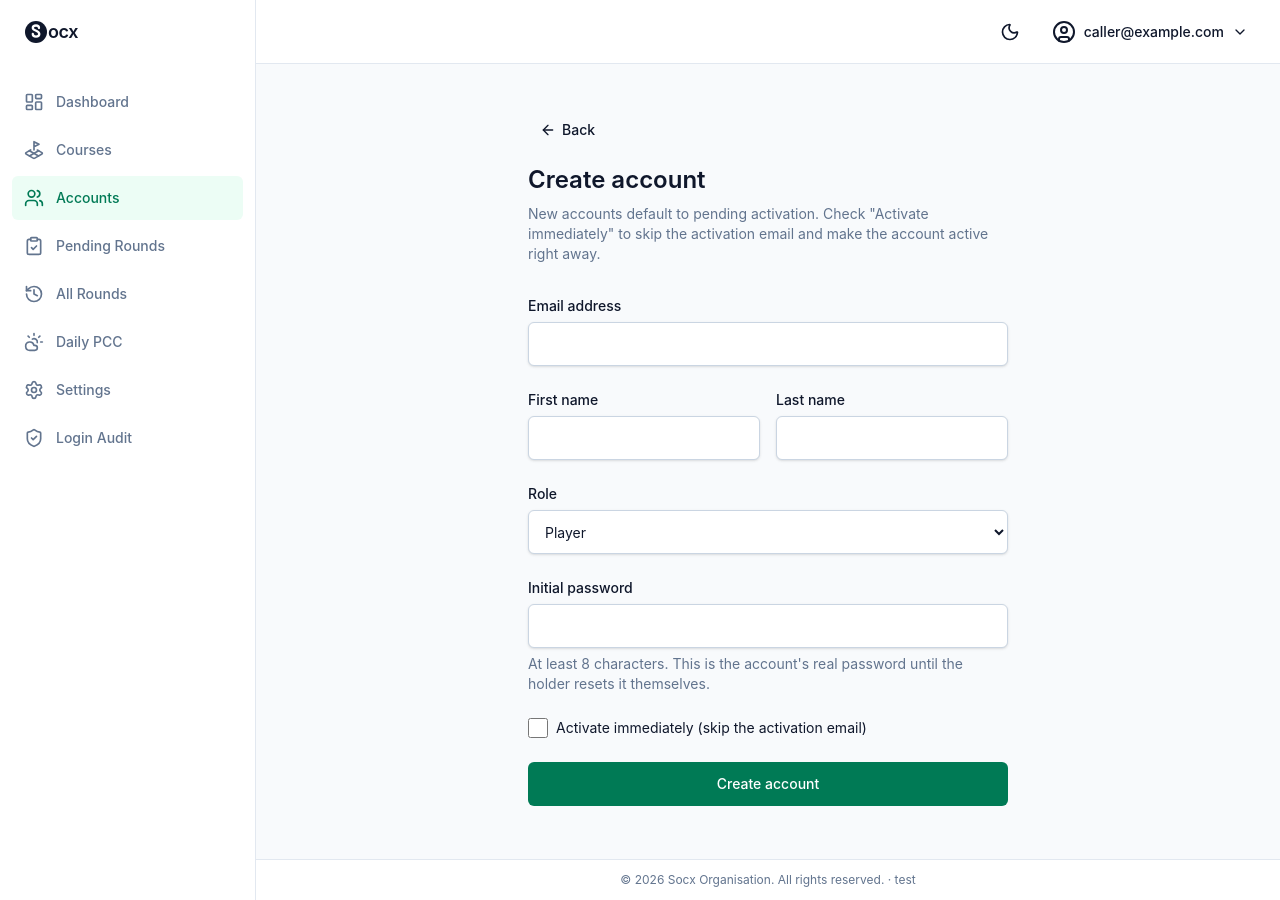
Test: AdminCreateUserPage › lets a super_admin submit an elevated role
Type "new.player@example.com" into the field labelled "Email address" at (768, 344), box [528,322,1008,366]
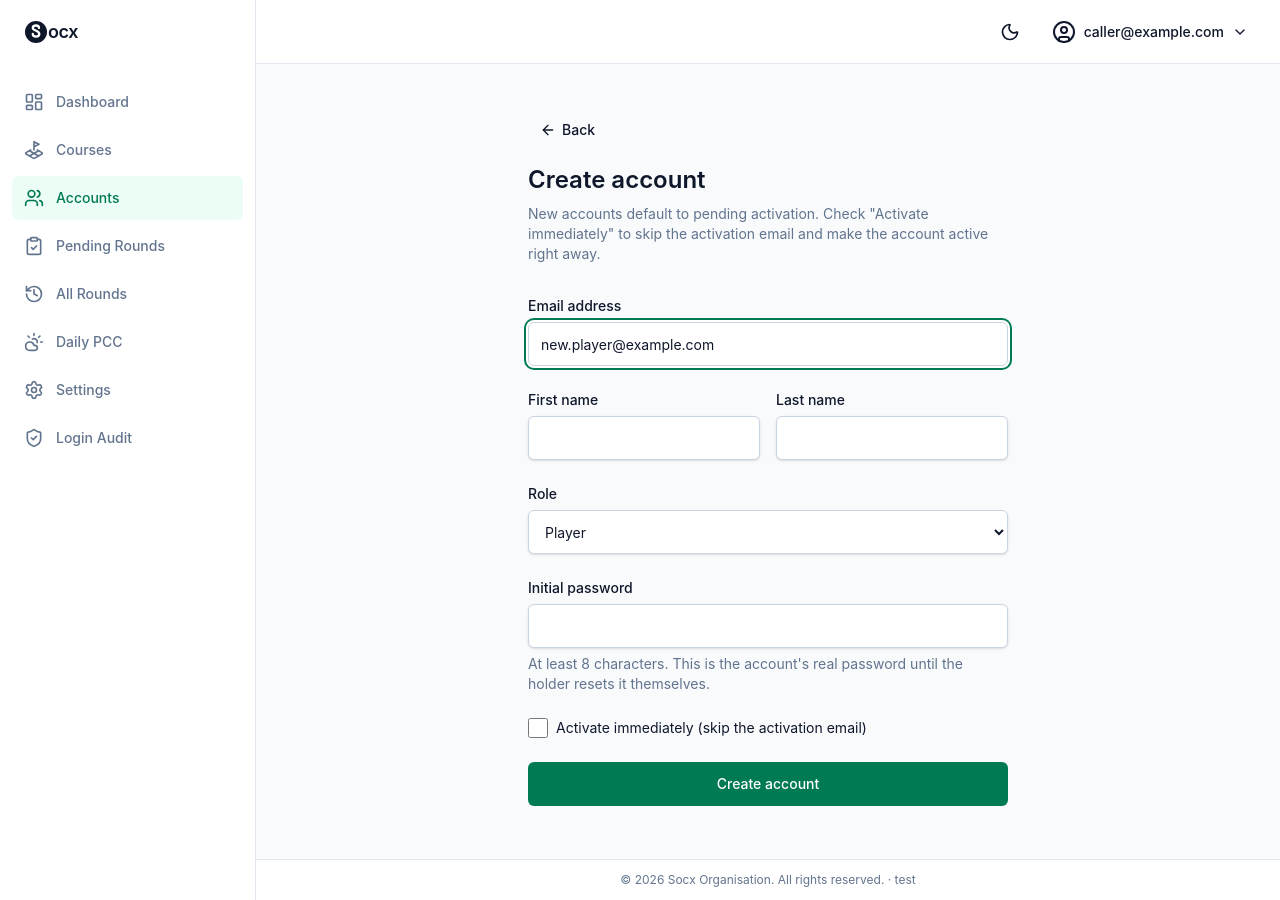
Type "New" into the field labelled "First name" at (644, 438), box [528,416,760,460]
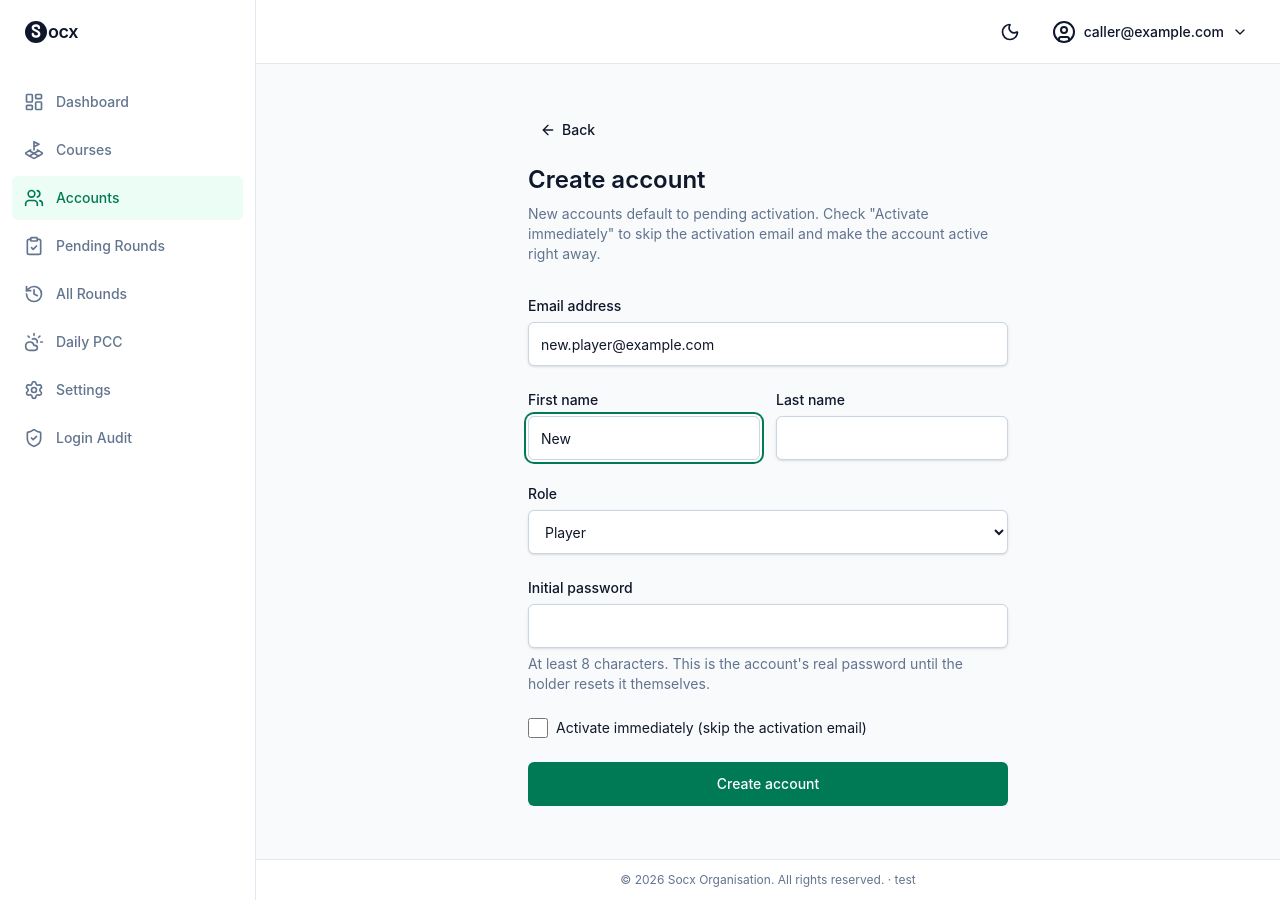
Type "Player" into the field labelled "Last name" at (892, 438), box [776,416,1008,460]
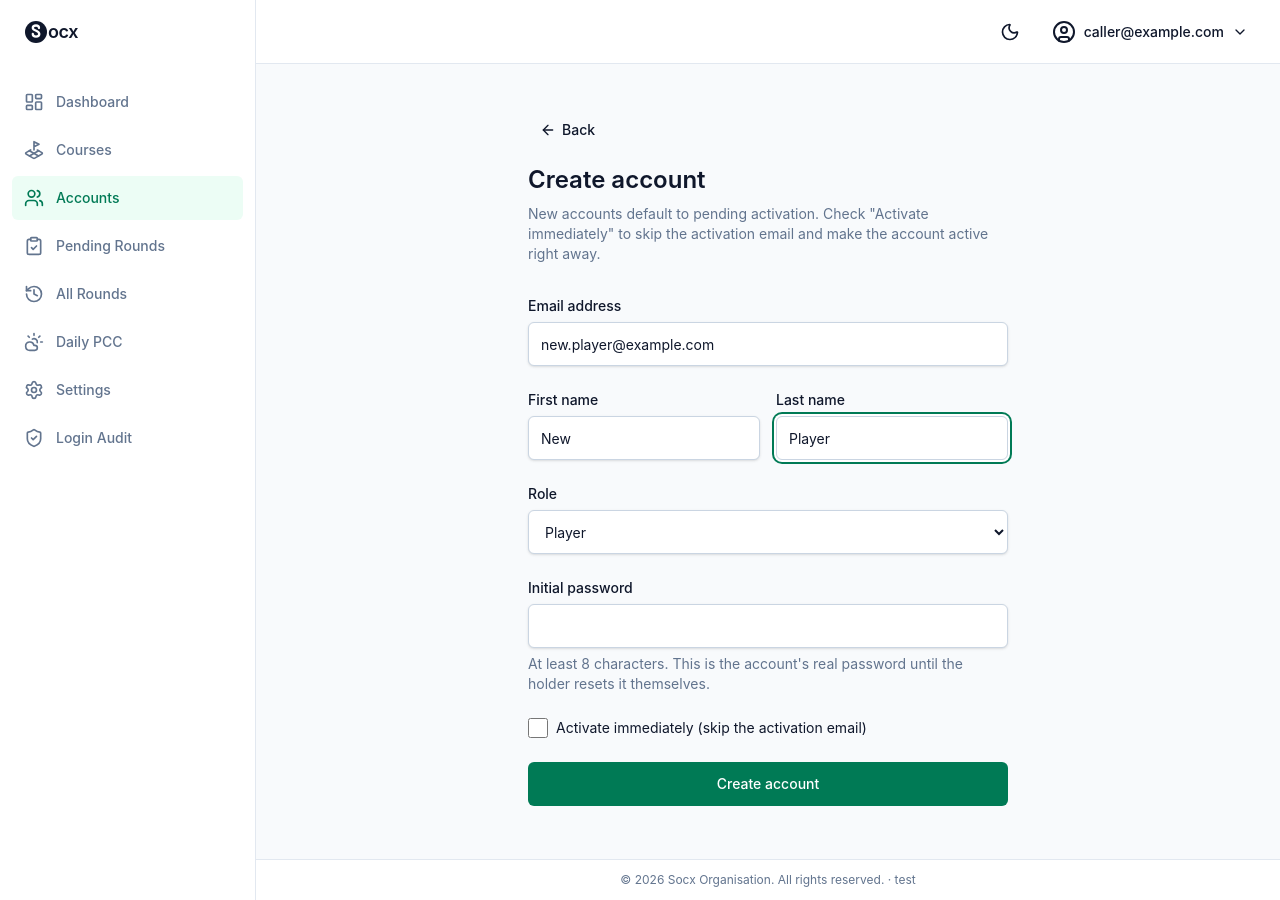
Type "correct-horse-battery-1" into the password field labelled "Initial password" at (768, 626), box [528,604,1008,648]
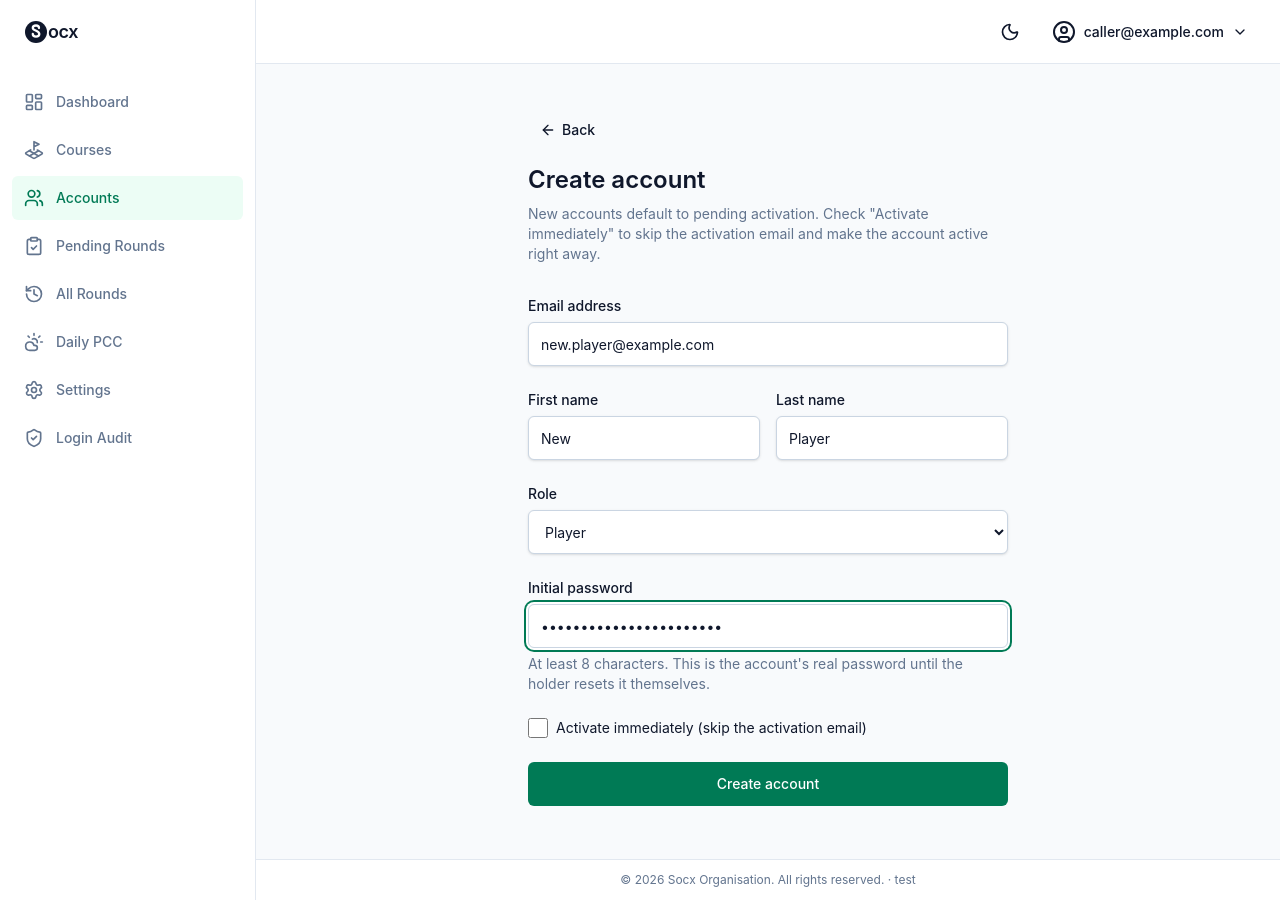
Select "Admin" in the dropdown labelled "Role" at (768, 532), box [528,510,1008,554]
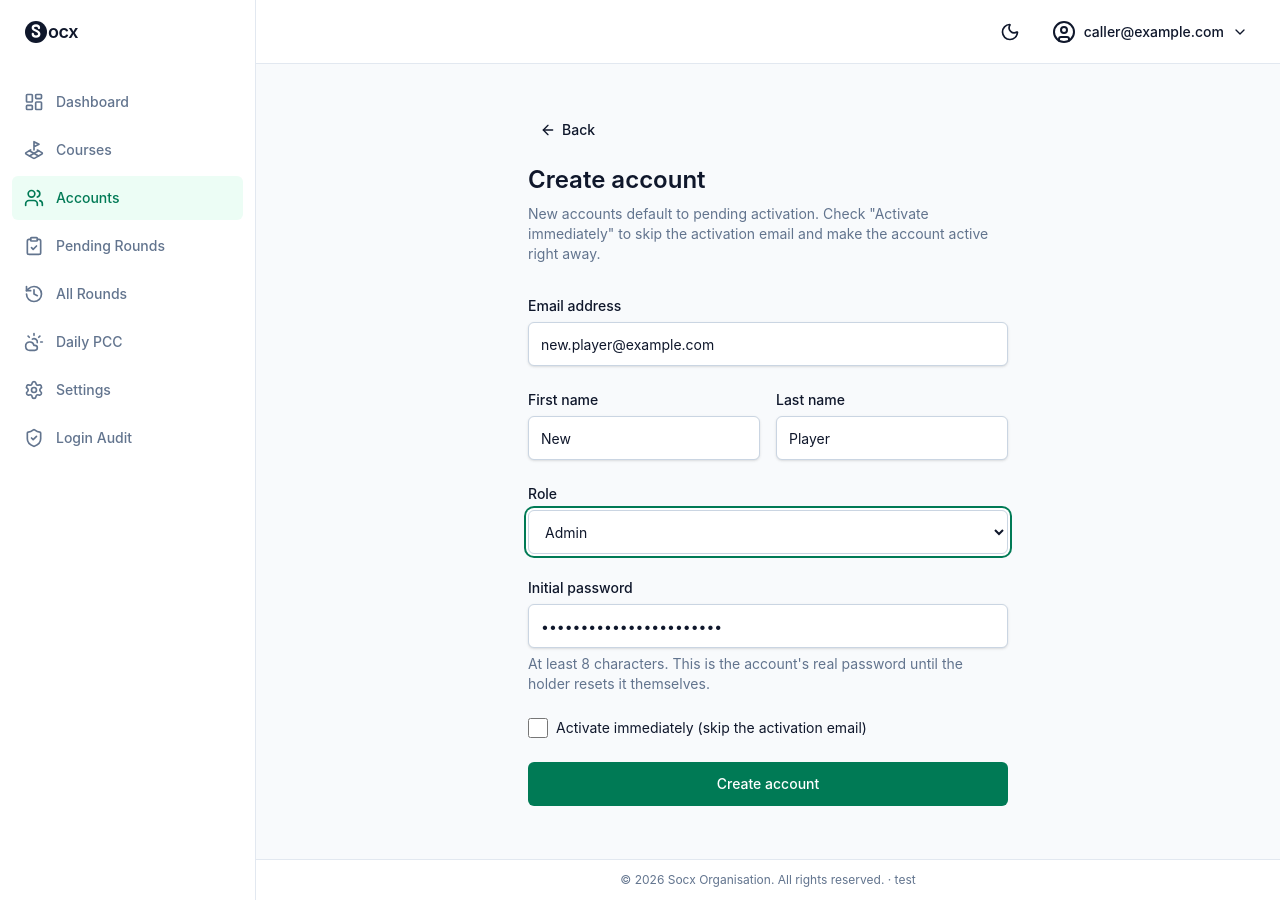
Click the button "Create account" at (768, 784), box [528,762,1008,806]
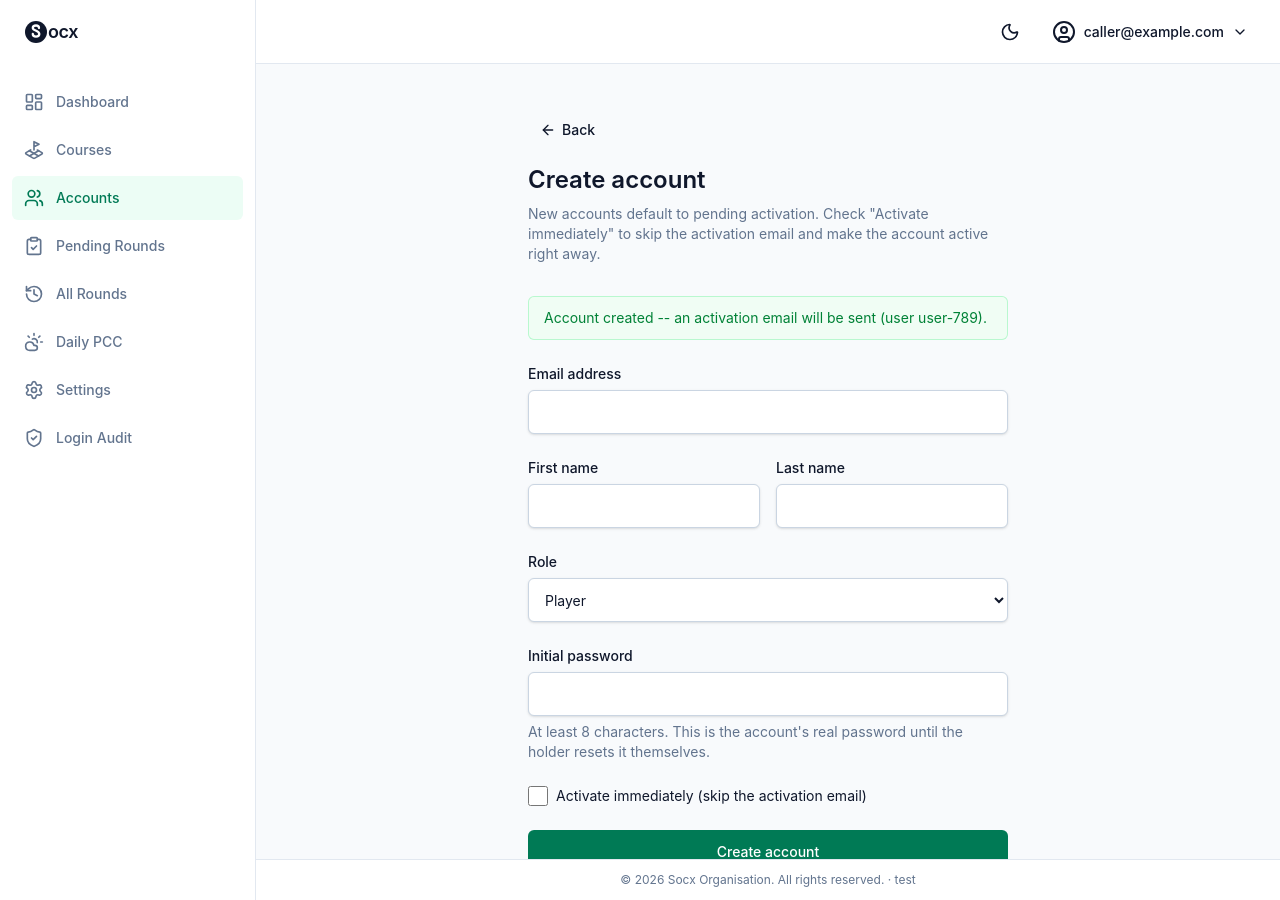
expect the message "Account created -- an activation email will be sent (user user-789)." is shown: met, box [528,296,1008,340]
